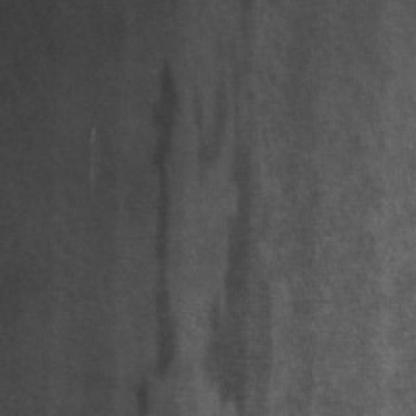inclusion: (185, 50, 264, 410), (133, 50, 185, 410)
